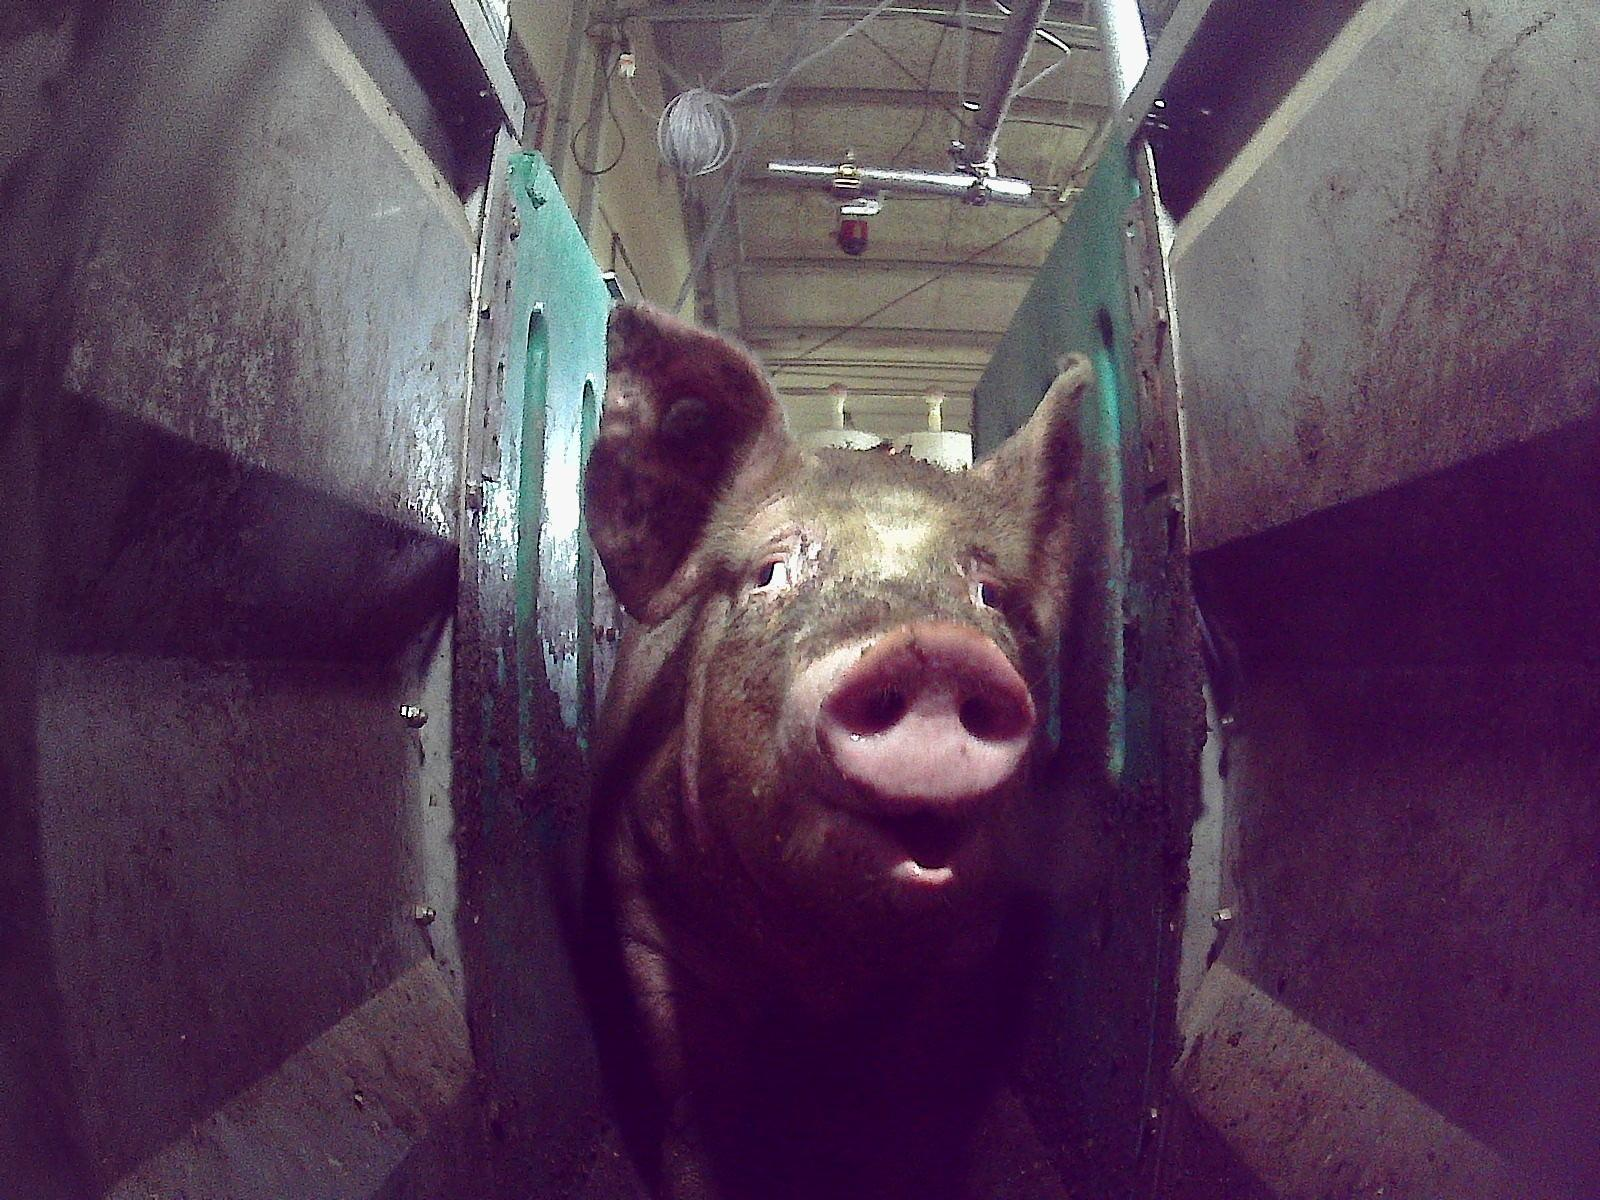Face: (665, 446, 1041, 943)
